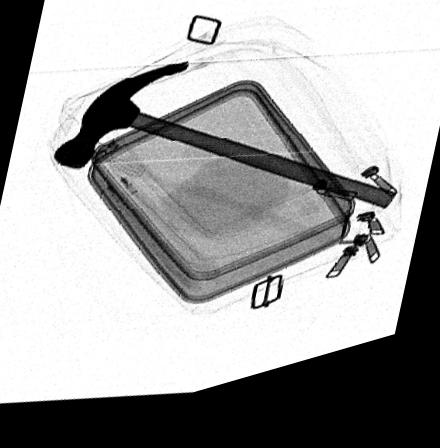Hammer: (52, 70, 396, 230)
